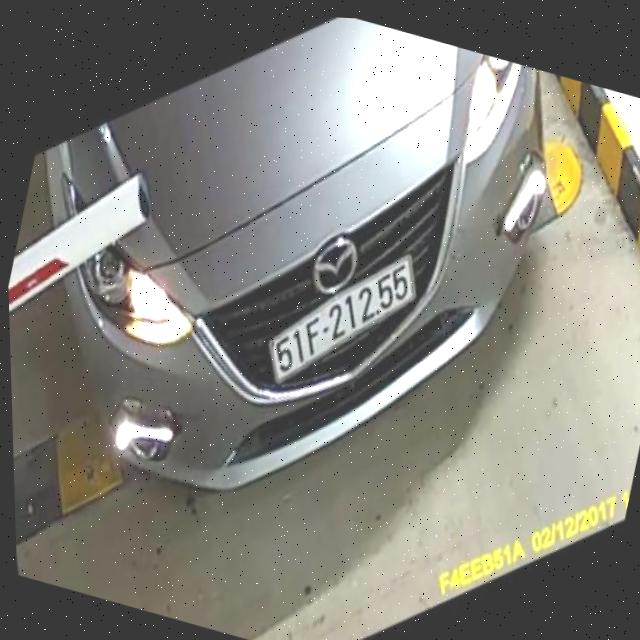car: (0, 0, 585, 575)
plate: (253, 221, 428, 417)
